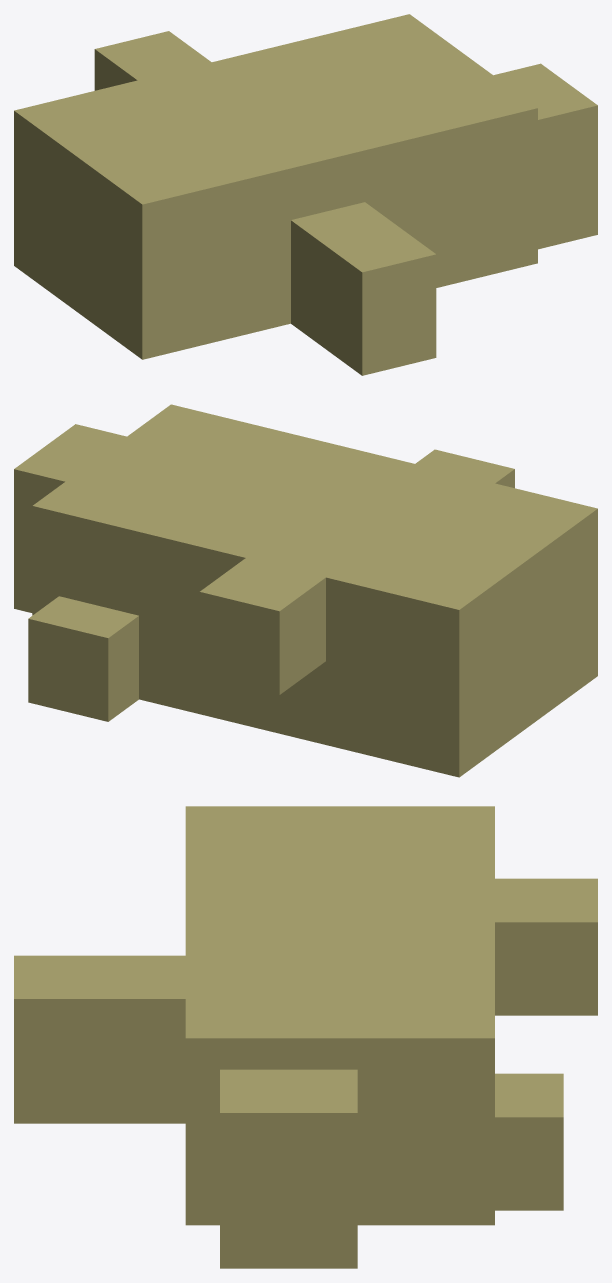
Rendered from jengibre.obj.
3 views of the same model, one above another, from view 1: azimuth 30°, elevation 25°; view 2: azimuth 150°, elevation 25°; view 3: azimuth 270°, elevation 25° (orthographic). The views are drawn at different scales.
Size of the model in its own units: 1.9 by 0.6 by 1.7.
Materials: 1 (1 with a texture image).
